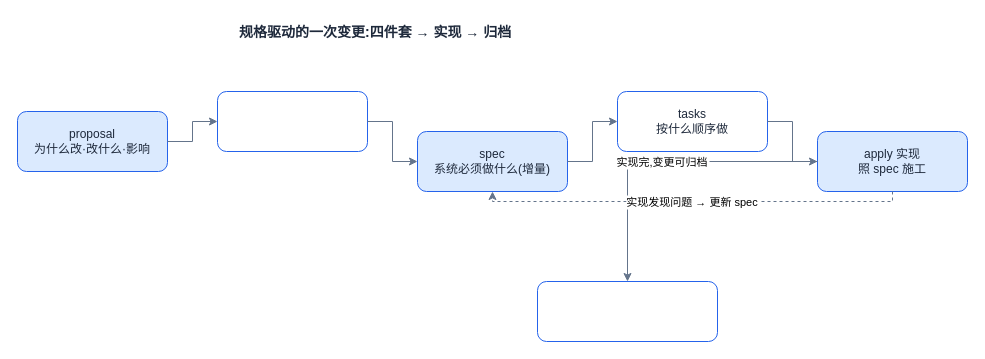
Some shapes in this 985 by 359 pixel diagram are drawn without their labels. Each missing label, with the centre of its shape:
"archive 归档 增量合并进主规格" belongs at point (627, 311).
"design 怎么做·权衡留痕" belongs at point (292, 121).
